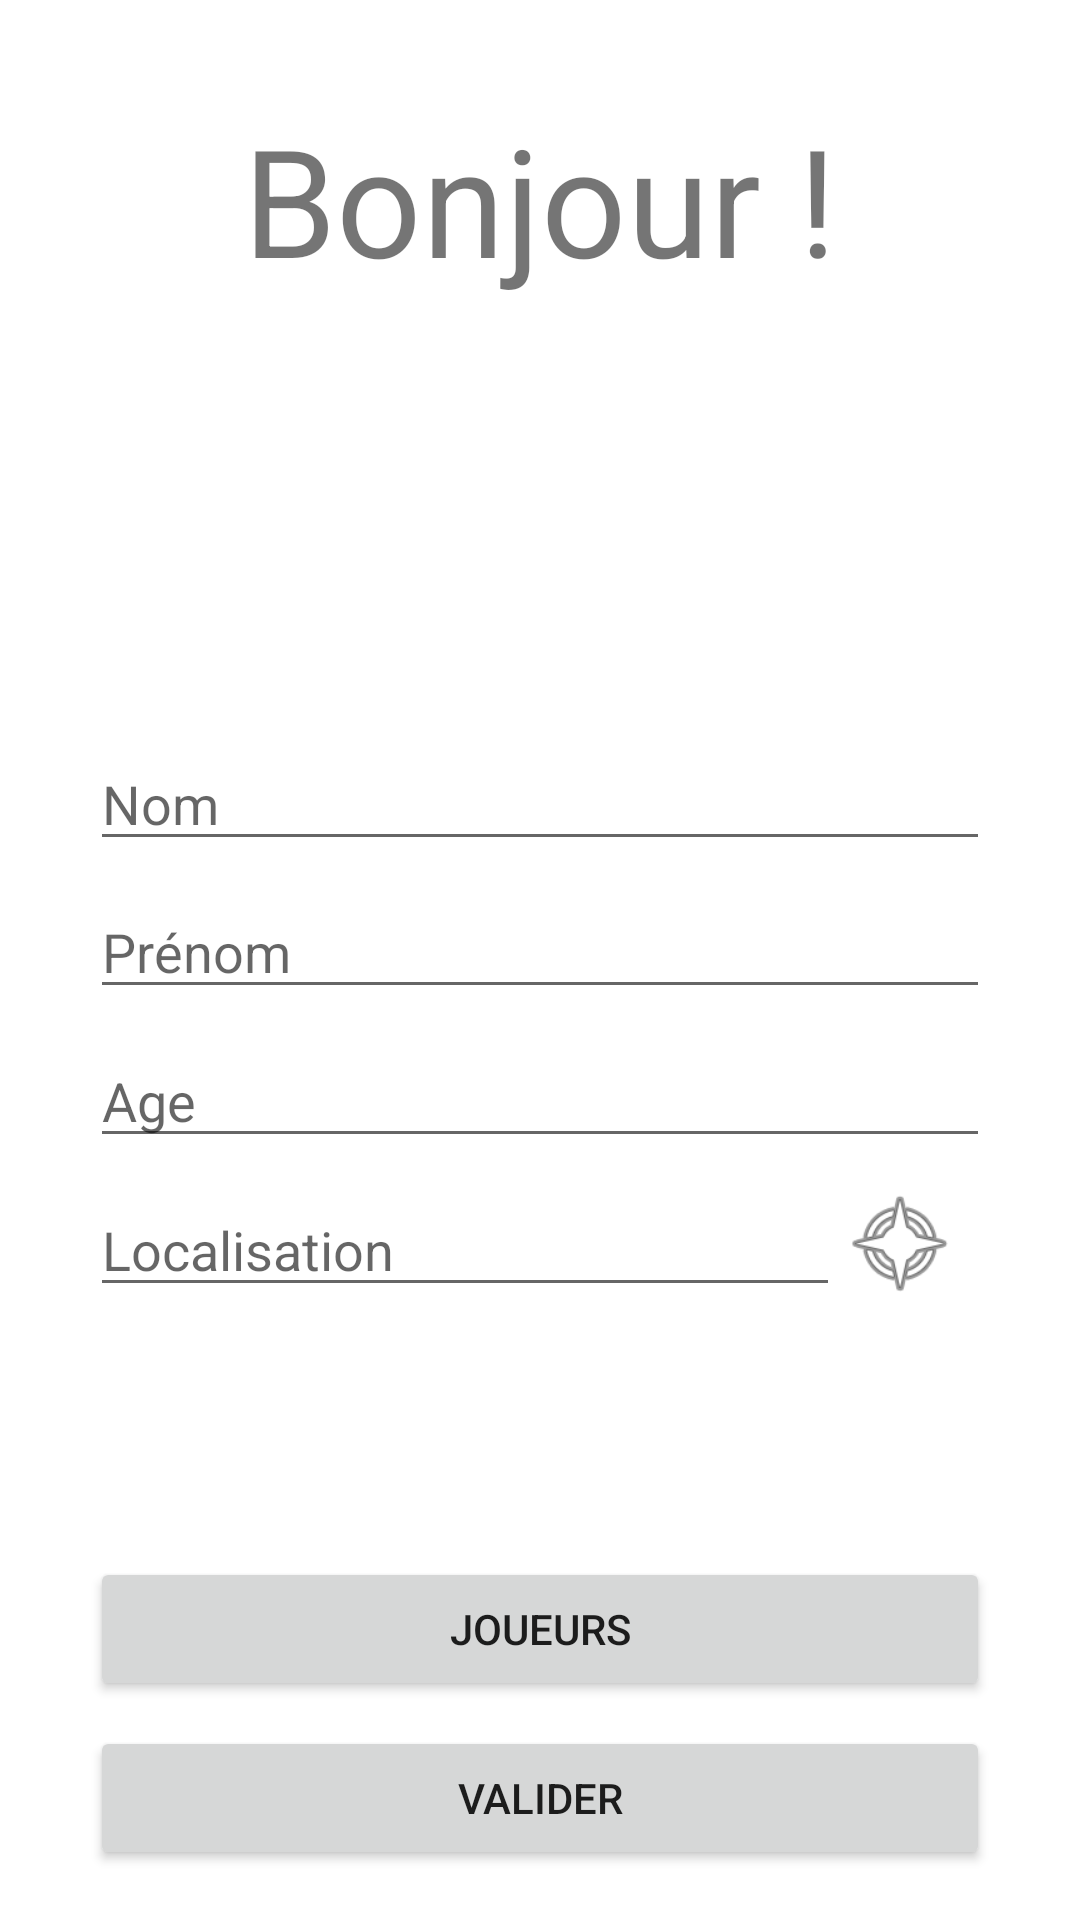

Point at icon controls on the screen. Image size 1080px x 1920px, points as (x,y).
compass: (899,1243)
